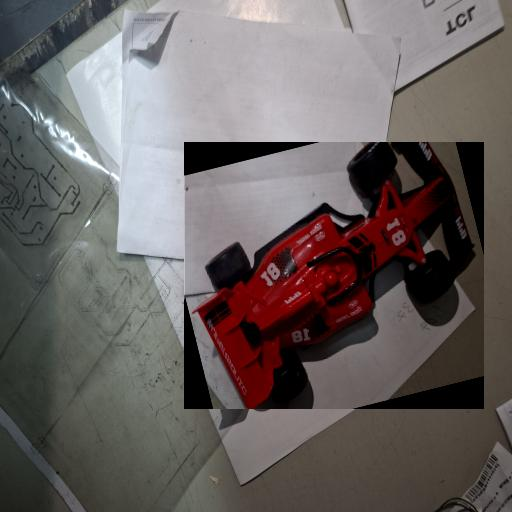carro: (185, 142, 484, 409)
